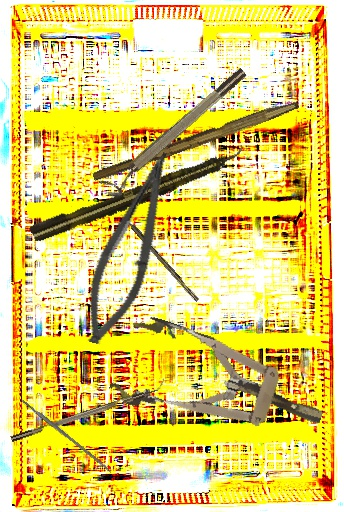Chopper: (7, 378, 169, 442)
Fixation Ring: (98, 64, 255, 202)
Handpiece: (28, 143, 249, 245)
Hook Surgical: (119, 211, 200, 303)
Micro Scissor: (73, 145, 181, 352)
Scalpel Handle: (91, 93, 300, 187), (20, 397, 113, 474)
Speculum: (106, 310, 335, 463)
